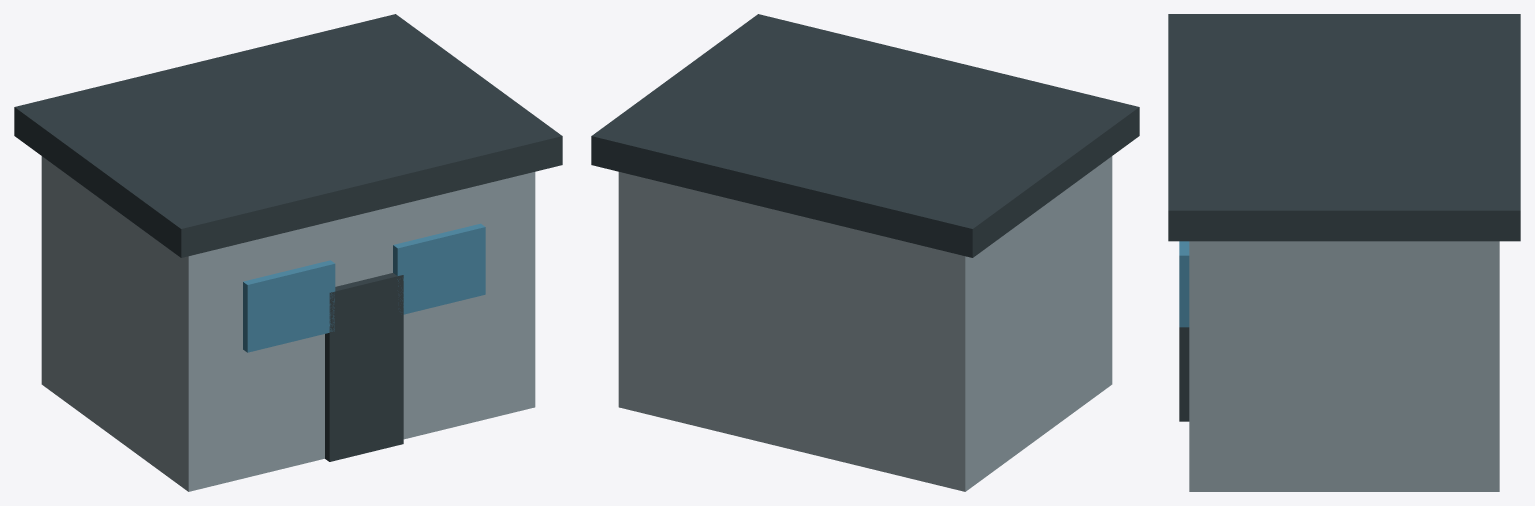
Rendered from computer_room.glb.
3 views of the same model, side by side, from view 1: azimuth 30°, elevation 25°; view 2: azimuth 150°, elevation 25°; view 3: azimuth 270°, elevation 25° (orthographic). The views are drawn at different scales.
Visible parts, largest first — view 1: Computer Room, Computer Room roof, Computer Room door, Computer Room window, Computer Room window 2; view 2: Computer Room, Computer Room roof; view 3: Computer Room roof, Computer Room, Computer Room door, Computer Room window 2.
Part boxes in pixels (left/top/right/bottom): Computer Room: left=41, top=156, right=535, bottom=491; Computer Room roof: left=14, top=14, right=562, bottom=257; Computer Room door: left=325, top=273, right=403, bottom=461; Computer Room window: left=243, top=260, right=335, bottom=352; Computer Room window 2: left=393, top=223, right=485, bottom=314; Computer Room: left=618, top=156, right=1112, bottom=491; Computer Room roof: left=591, top=14, right=1139, bottom=257; Computer Room roof: left=1168, top=14, right=1520, bottom=241; Computer Room: left=1189, top=241, right=1499, bottom=491; Computer Room door: left=1179, top=327, right=1189, bottom=421; Computer Room window 2: left=1179, top=241, right=1189, bottom=327.
Bounding box in the file's own units: 3.3 × 2.27 × 2.5.
